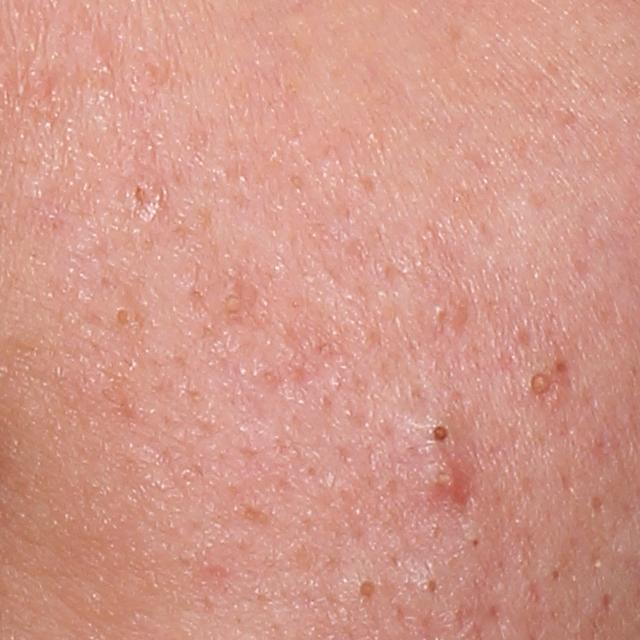comedo: (414, 414, 458, 458), (346, 564, 383, 608), (111, 300, 146, 337), (525, 367, 558, 404), (430, 300, 450, 322), (425, 576, 442, 594)
